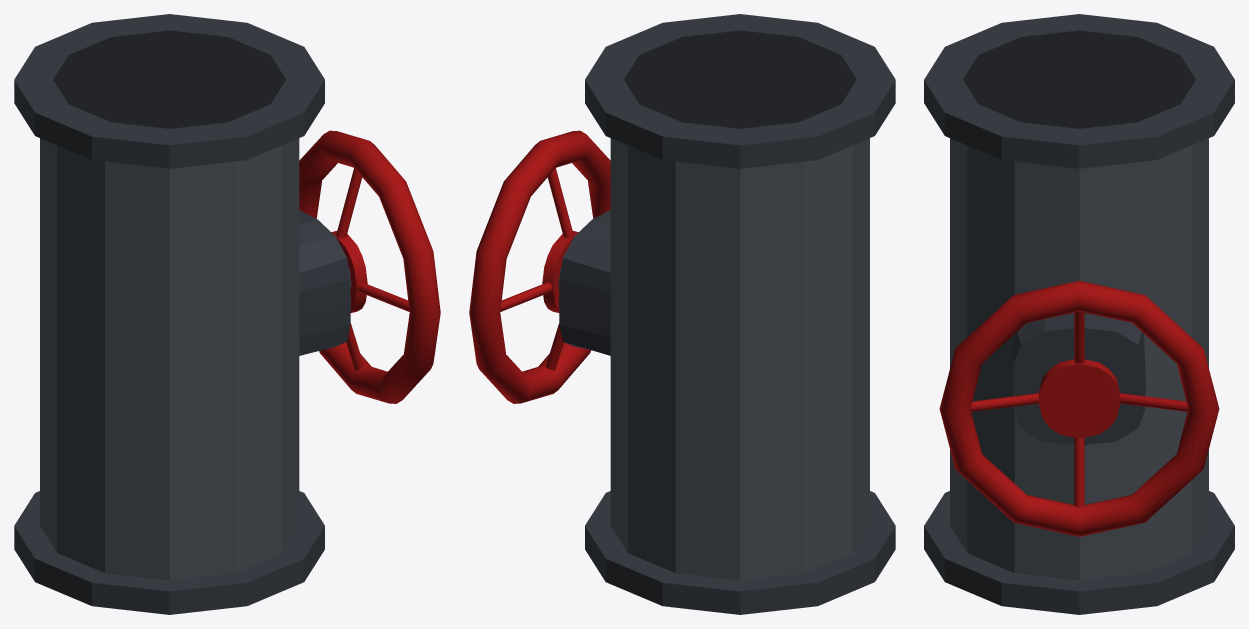
The model's file is Pipe_0.25x0.5_Valve.fbx.
The picture shows the model from 3 angles, left to right: view 1: azimuth 30°, elevation 25°; view 2: azimuth 150°, elevation 25°; view 3: azimuth 270°, elevation 25°; orthographic projection.
Parts seen in each view (by area): view 1: Pipe_0.25x0.5_Valve, Pipe_0.25x0.5_Valve_Wheel; view 2: Pipe_0.25x0.5_Valve, Pipe_0.25x0.5_Valve_Wheel; view 3: Pipe_0.25x0.5_Valve, Pipe_0.25x0.5_Valve_Wheel.
Part boxes in pixels (x1,y1,x2,y2): Pipe_0.25x0.5_Valve: (14,14,350,614); Pipe_0.25x0.5_Valve_Wheel: (299,130,440,403); Pipe_0.25x0.5_Valve: (559,14,895,614); Pipe_0.25x0.5_Valve_Wheel: (469,130,610,403); Pipe_0.25x0.5_Valve: (924,14,1234,614); Pipe_0.25x0.5_Valve_Wheel: (939,280,1219,536).
Bounding box in the file's own units: 38.04 × 50 × 30.
